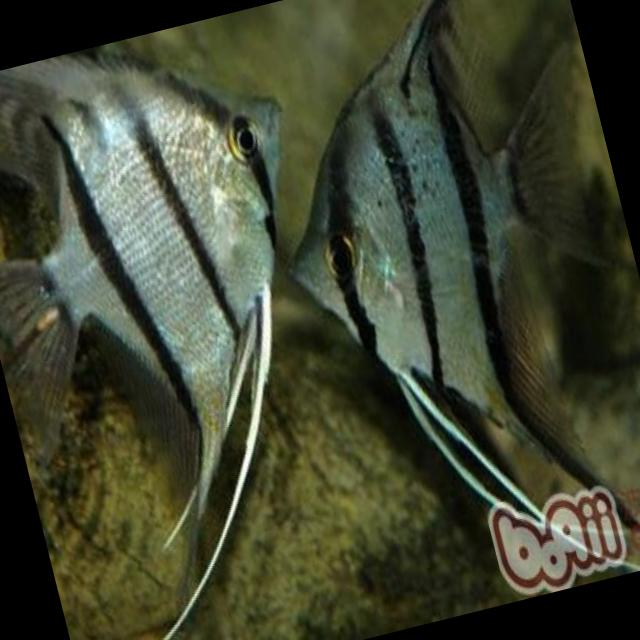AngelFish: (225, 0, 640, 563), (0, 6, 381, 588)
